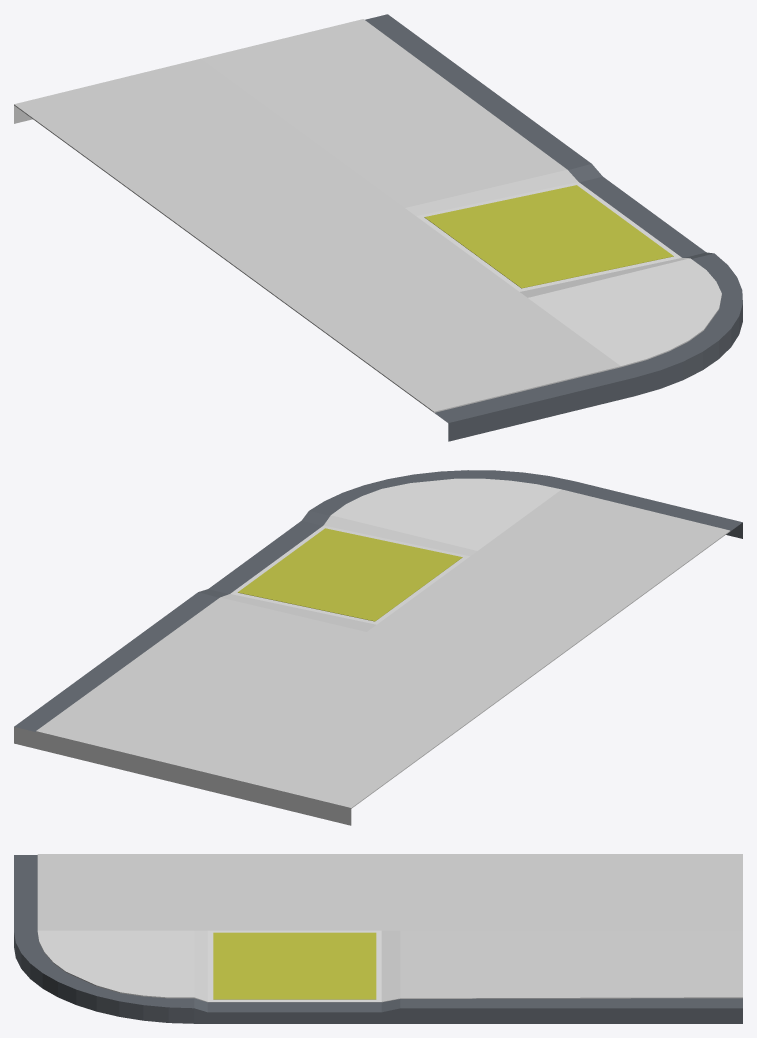
The model's file is Road 5.fbx.
The picture shows the model from 3 angles, top to bottom: view 1: azimuth 30°, elevation 25°; view 2: azimuth 150°, elevation 25°; view 3: azimuth 270°, elevation 25°; orthographic projection. The views are drawn at different scales.
Visible parts, largest first — view 1: Cube.001; view 2: Cube.001; view 3: Cube.001.
Boxes of the visible parts, x1,y1,x2,y2 form: Cube.001: (14, 14, 742, 441); Cube.001: (14, 470, 742, 825); Cube.001: (14, 854, 742, 1023).
Size of the model in its own units: 1983 by 101 by 3991.
